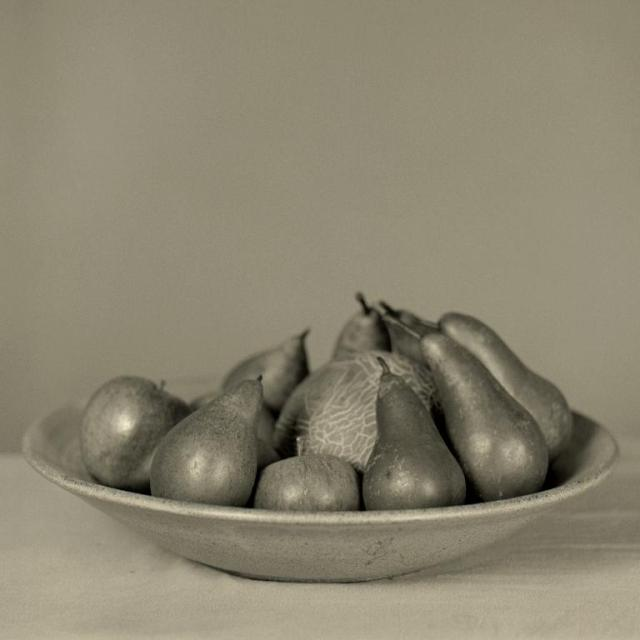pear: (82, 316, 569, 507), (145, 395, 257, 521)
